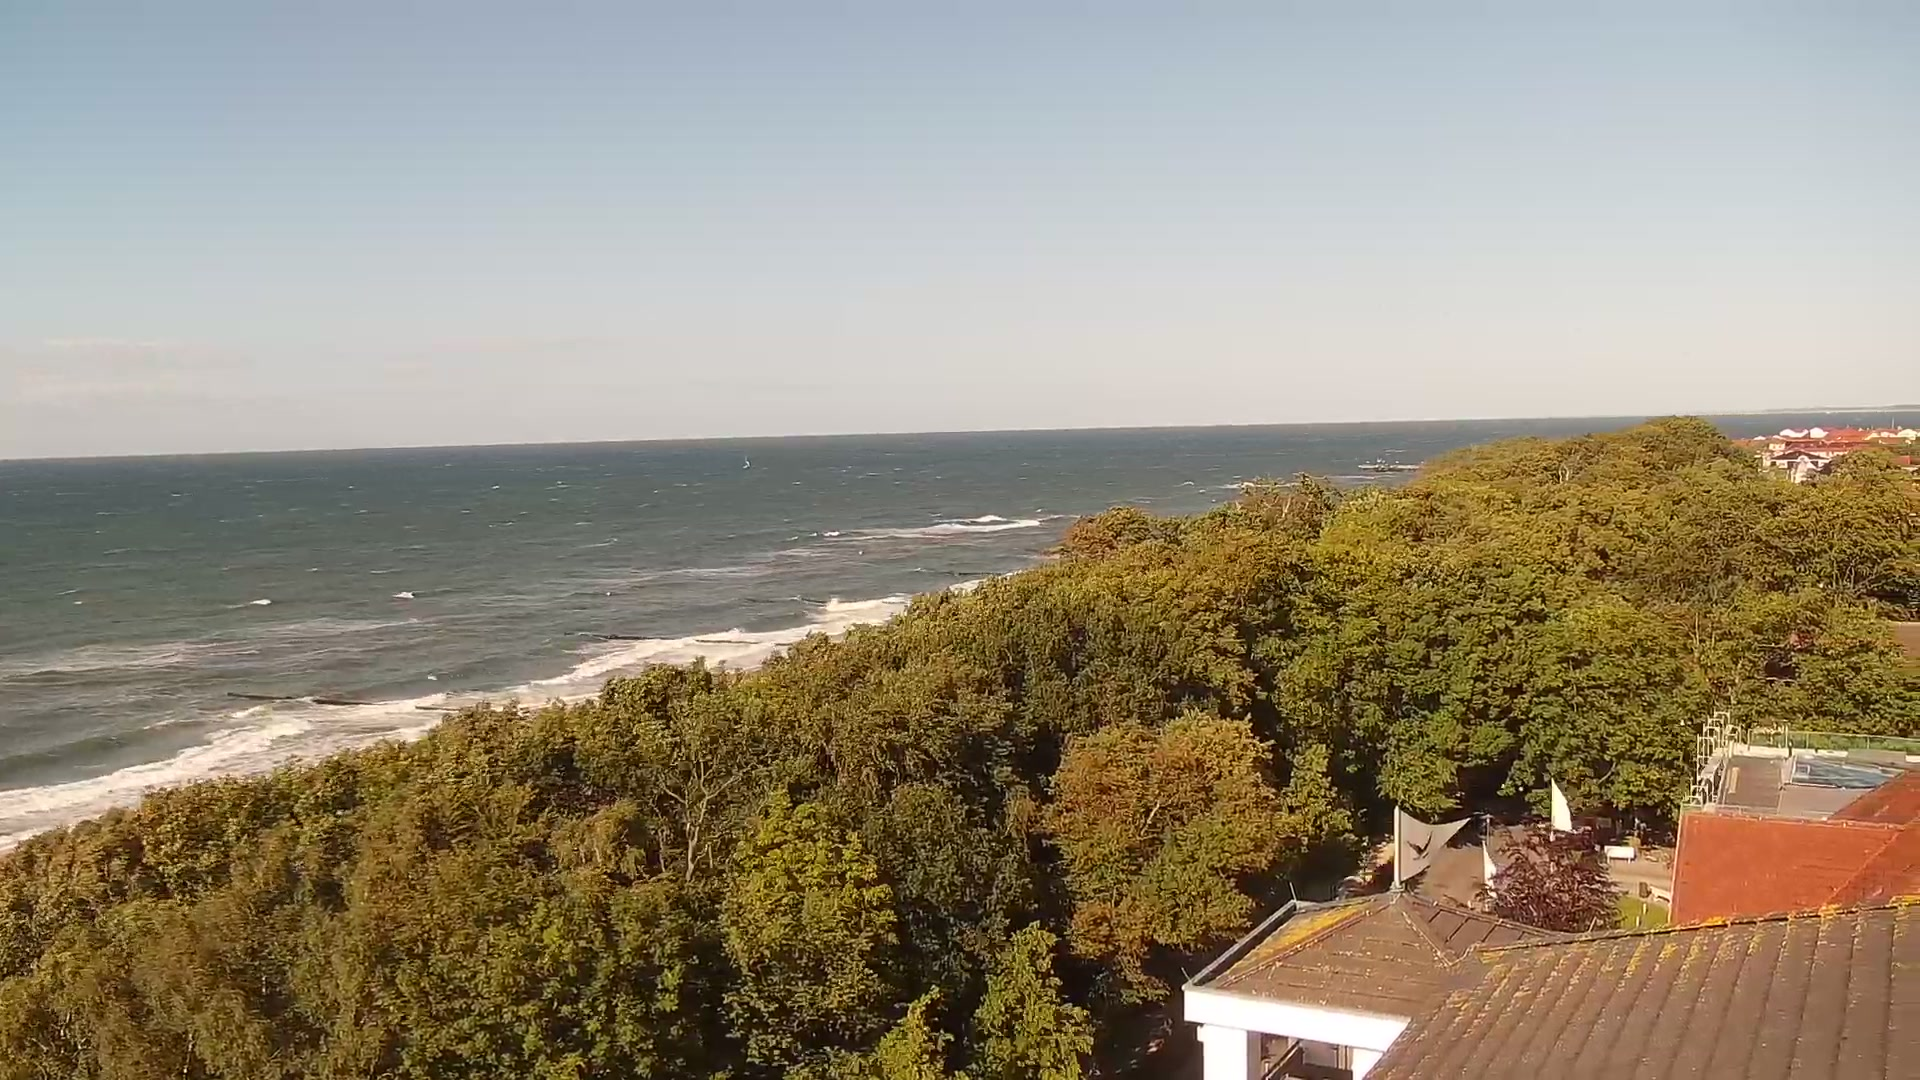sea: (741, 455, 752, 469)
